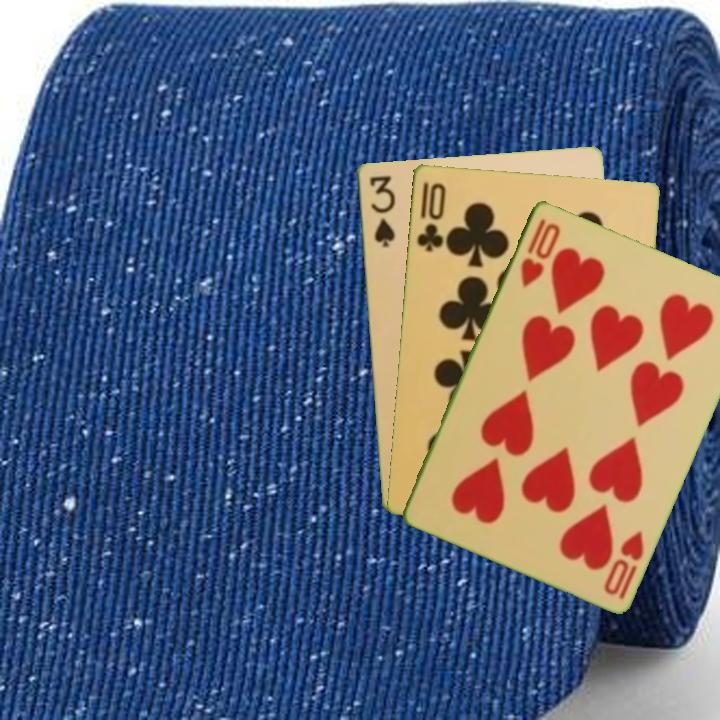10c: (412, 178, 449, 255)
10h: (516, 214, 563, 290), (600, 526, 646, 602)
3s: (365, 171, 397, 250)
